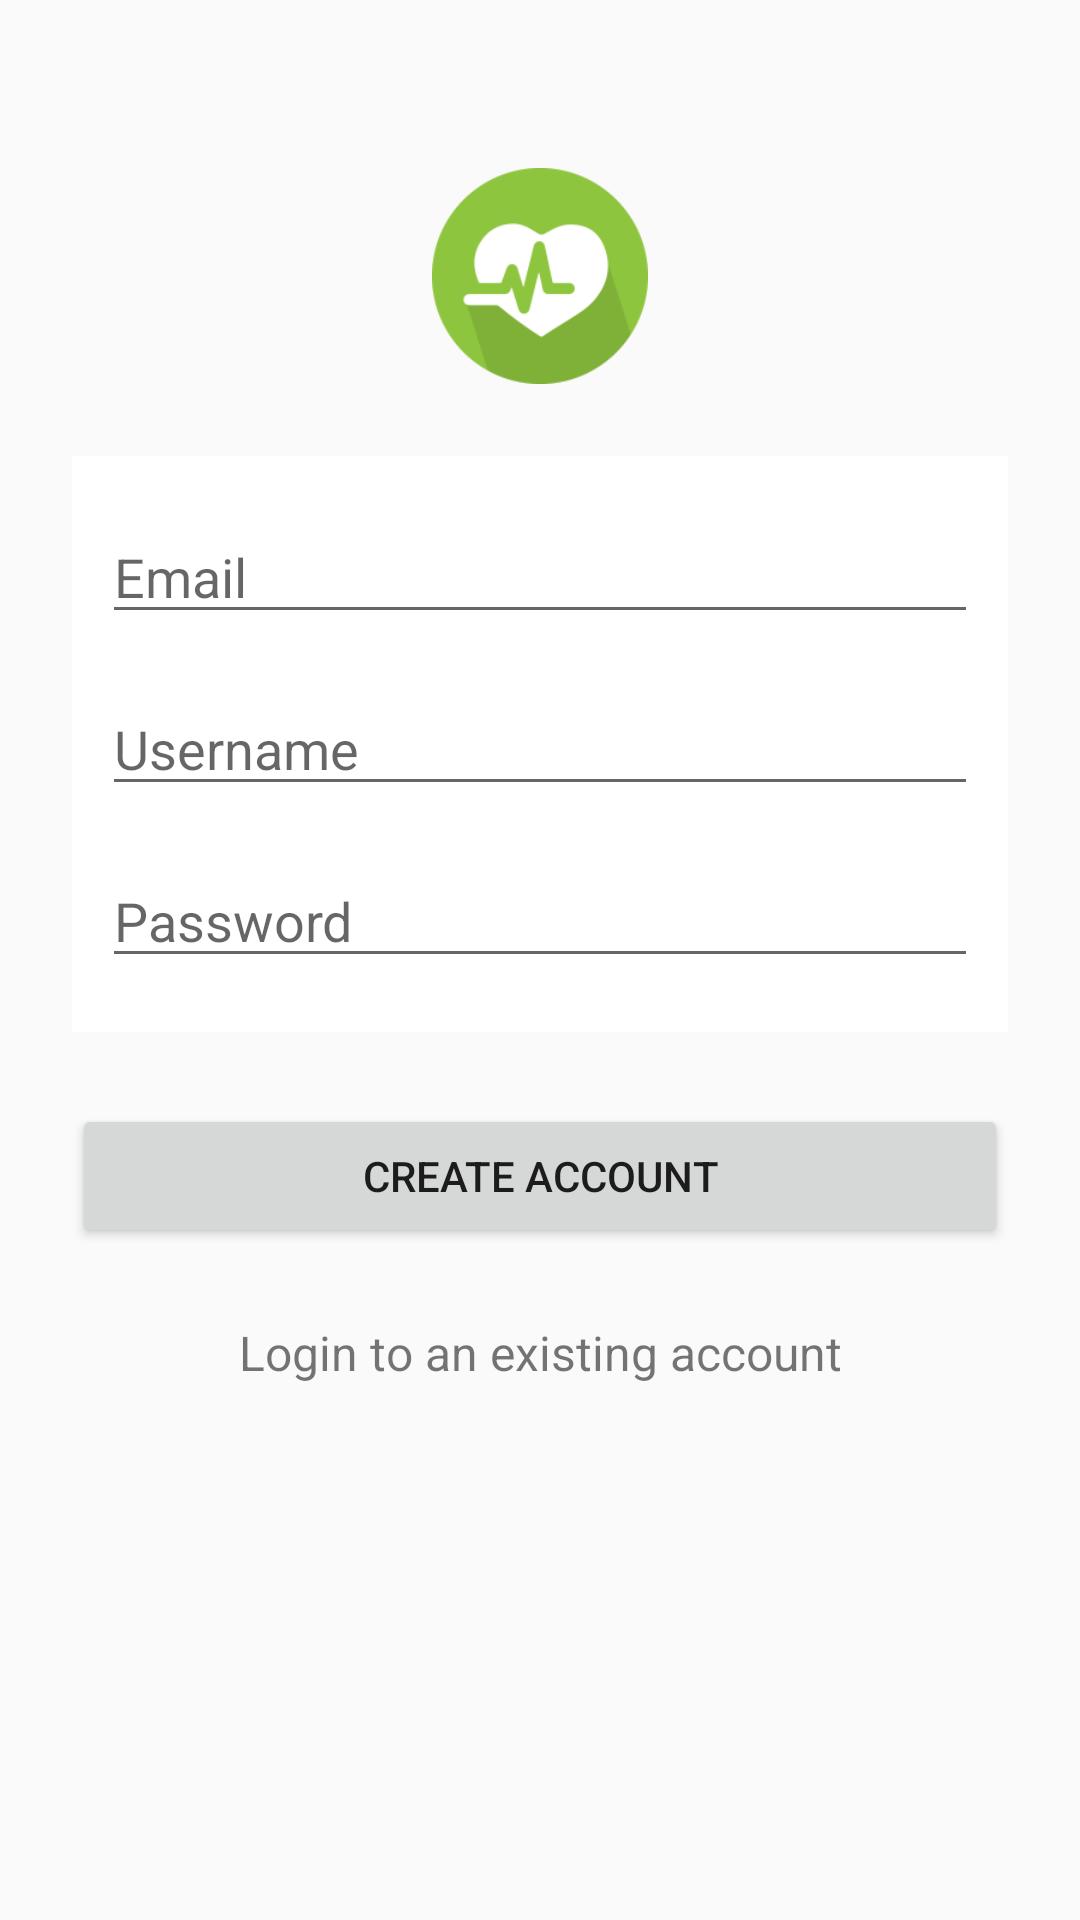

Named icons in this screenshot (1080 × 1920) and their centers, point (x, y):
app: point (540, 276)
